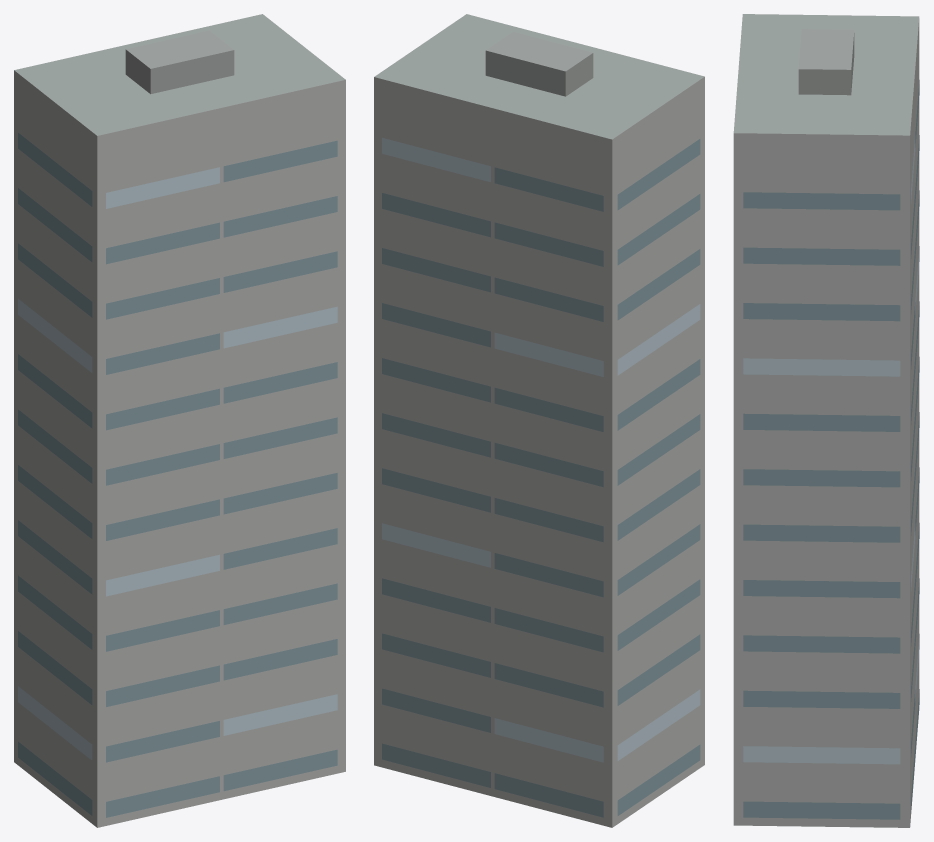
The model's file is fallback-sk-bukhansan-city-113.glb.
3 views of the same model, side by side, from view 1: azimuth 30°, elevation 25°; view 2: azimuth 150°, elevation 25°; view 3: azimuth 270°, elevation 25° (orthographic).
Parts seen in each view (by area): view 1: fallback-sk-bukhansan-city-113; view 2: fallback-sk-bukhansan-city-113; view 3: fallback-sk-bukhansan-city-113.
Boxes of the visible parts, box(x1,y1,x2,y2) form: fallback-sk-bukhansan-city-113: box(14, 14, 345, 827); fallback-sk-bukhansan-city-113: box(374, 14, 704, 827); fallback-sk-bukhansan-city-113: box(733, 14, 919, 827).
Bounding box in the file's own units: 24.74 × 68 × 15.98.
